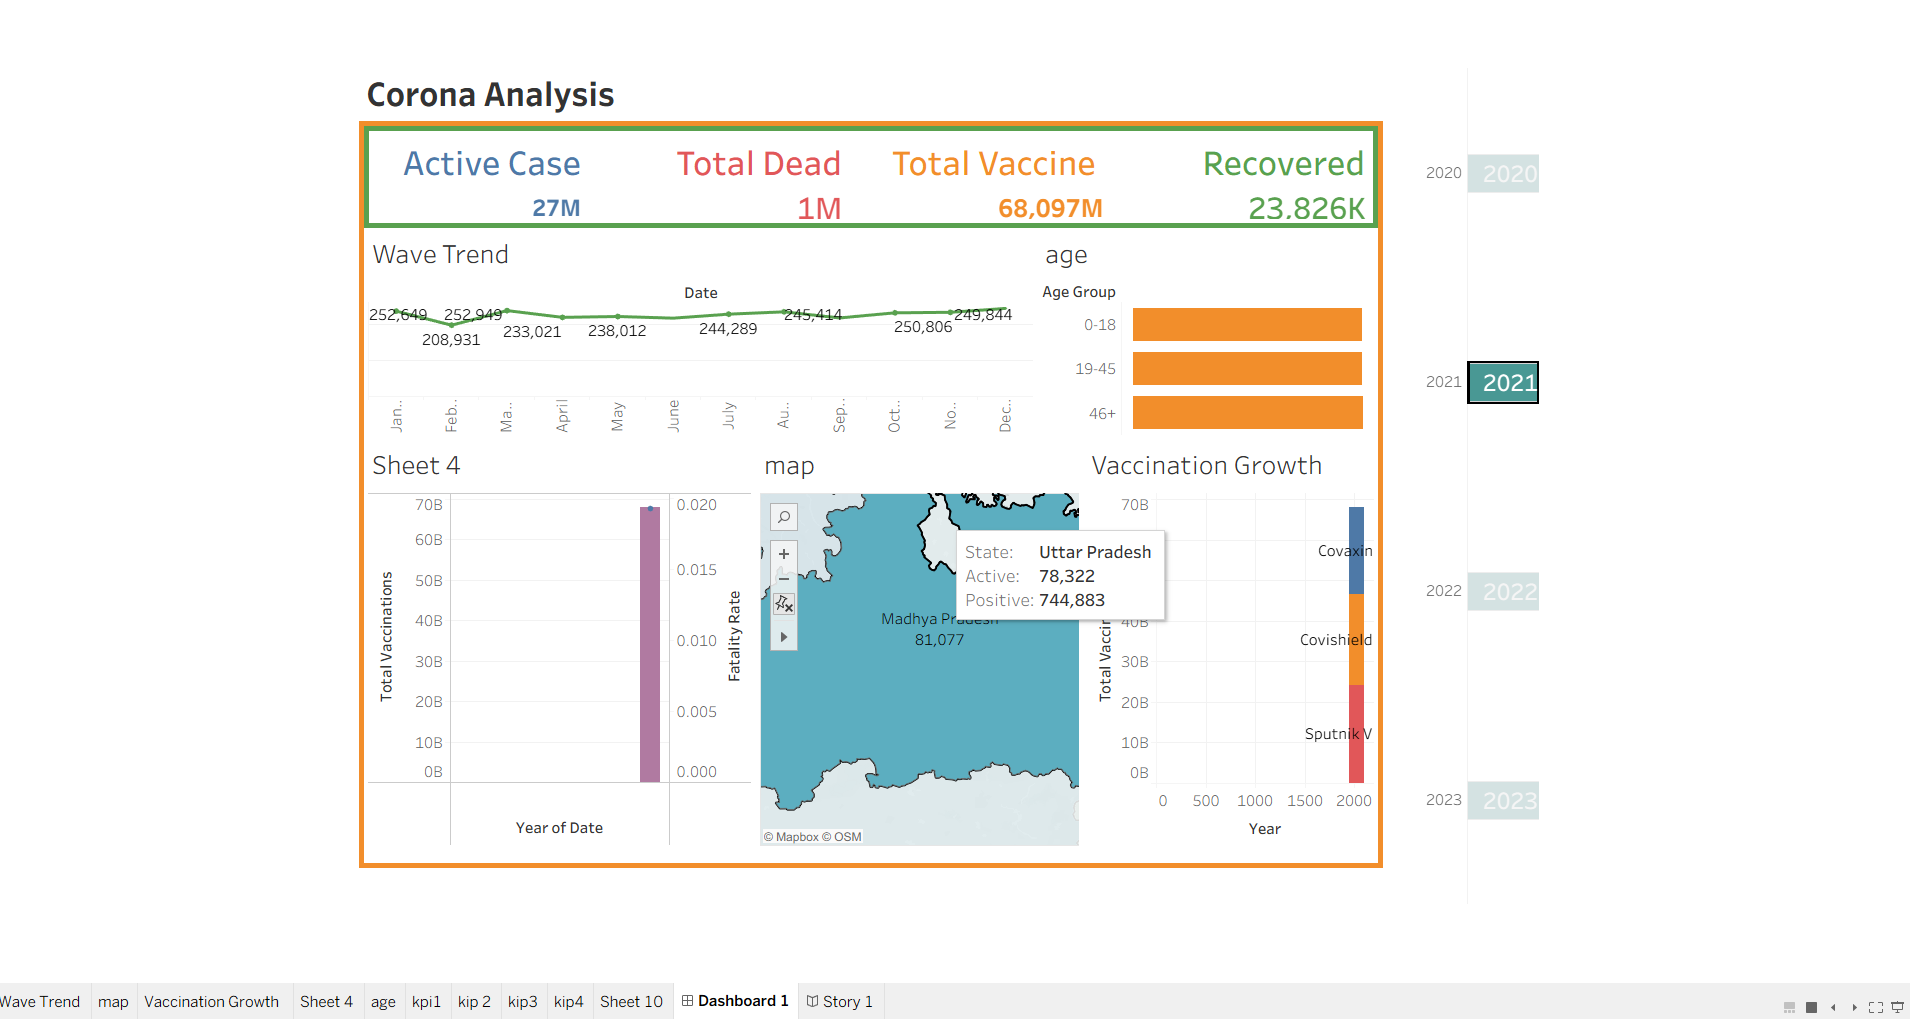

The page's visual inventory and layout, read from the dashboard file:
{"tool":"tableau","page":{"name":"Dashboard 1","canvas":[1000,1000],"units":"permille","ordinal":0},"visuals":[{"type":"title","box":[6.7,9.4,853.3,66.9]},{"type":"worksheet","title":"Sheet 10","mark":"Bar","rows":["Date"],"cols":["Calculation_0873053347758081"],"box":[860,9.4,133.3,981.2]},{"type":"worksheet","title":"kpi1","mark":"Automatic","box":[15,88,183.3,108]},{"type":"worksheet","title":"kip4","mark":"Automatic","box":[198.3,88,217.8,108]},{"type":"worksheet","title":"kip 2","mark":"Automatic","box":[416.1,88,217.8,108]},{"type":"worksheet","title":"kip3","mark":"Automatic","box":[633.9,88,217.8,108]},{"type":"worksheet","title":"Wave Trend","mark":"Line","rows":["Confirmed"],"cols":["Date"],"box":[10.8,201.9,560.8,247.7]},{"type":"worksheet","title":"age","mark":"Automatic","rows":["Age_Group"],"cols":["Date"],"box":[571.7,201.9,284.2,247.7]},{"type":"worksheet","title":"Sheet 4","mark":"Bar","rows":["Total_Vaccinations","Calculation_0416205705625603"],"cols":["Date"],"box":[10.8,449.5,326.4,482.4]},{"type":"worksheet","title":"map","mark":"Automatic","box":[337.2,449.5,273.1,482.4]},{"type":"worksheet","title":"Vaccination Growth","mark":"Bar","rows":["Total_Vaccinations"],"cols":["Calculation_0416205704114177"],"box":[610.3,449.5,245.6,482.4]}]}

Visuals, with their boxes on the dashboard's canvas, which has no fixed pixel size, in thousandths of its width and height (x1, y1, x2, y2). These are canvas units, not pixel positions in the 1910x1019 screenshot, which may show the page scaled, cropped or inside an application window:
title: <bbox>7, 9, 860, 76</bbox>
"Sheet 10" worksheet (Bar marks): <bbox>860, 9, 993, 991</bbox>
"kpi1" worksheet: <bbox>15, 88, 198, 196</bbox>
"kip4" worksheet: <bbox>198, 88, 416, 196</bbox>
"kip 2" worksheet: <bbox>416, 88, 634, 196</bbox>
"kip3" worksheet: <bbox>634, 88, 852, 196</bbox>
"Wave Trend" worksheet (Line marks): <bbox>11, 202, 572, 450</bbox>
"age" worksheet: <bbox>572, 202, 856, 450</bbox>
"Sheet 4" worksheet (Bar marks): <bbox>11, 450, 337, 932</bbox>
"map" worksheet: <bbox>337, 450, 610, 932</bbox>
"Vaccination Growth" worksheet (Bar marks): <bbox>610, 450, 856, 932</bbox>
